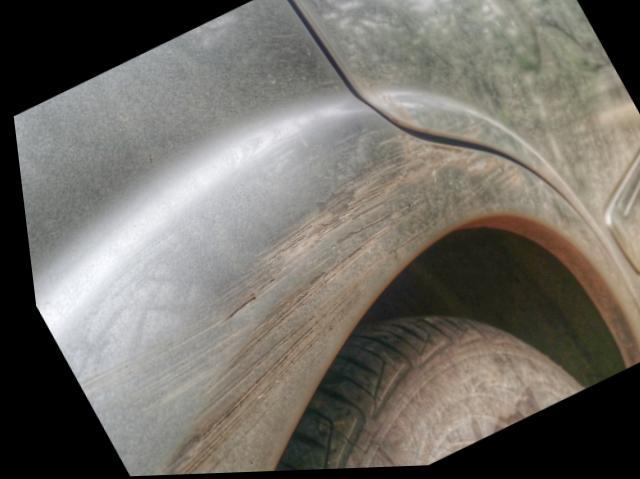scratch: (61, 135, 538, 477)
